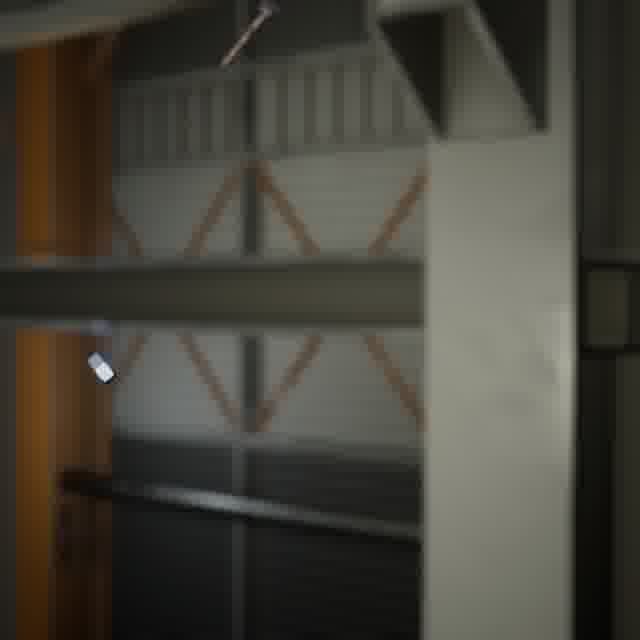bolt: (213, 0, 283, 75)
nut: (83, 348, 121, 388)
